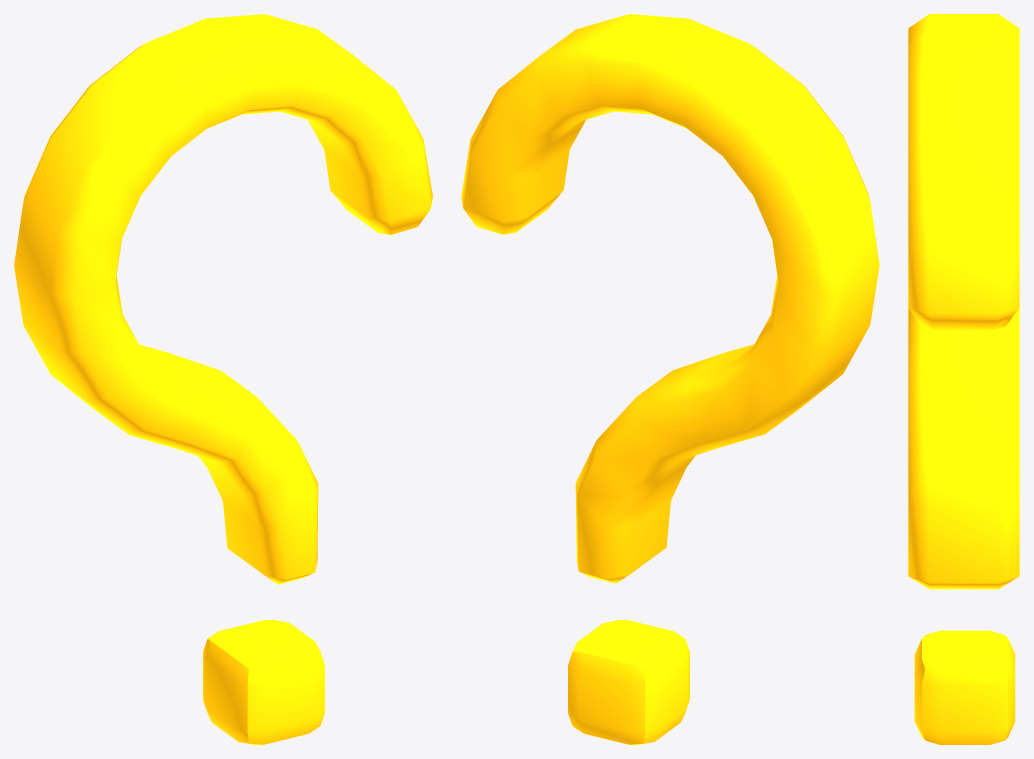
File: QuestInterrogation.glb
The picture shows the model from 3 angles, left to right: view 1: azimuth 30°, elevation 25°; view 2: azimuth 150°, elevation 25°; view 3: azimuth 270°, elevation 25°; orthographic projection. The views are drawn at different scales.
Visible parts, largest first — view 1: node_QuestInterrogation; view 2: node_QuestInterrogation; view 3: node_QuestInterrogation.
Part boxes in pixels (x1,y1,x2,y2): node_QuestInterrogation: (14, 14, 432, 744); node_QuestInterrogation: (461, 14, 879, 744); node_QuestInterrogation: (908, 14, 1019, 744).
Bounding box in the file's own units: 0.3281 × 0.5802 × 0.0861.
